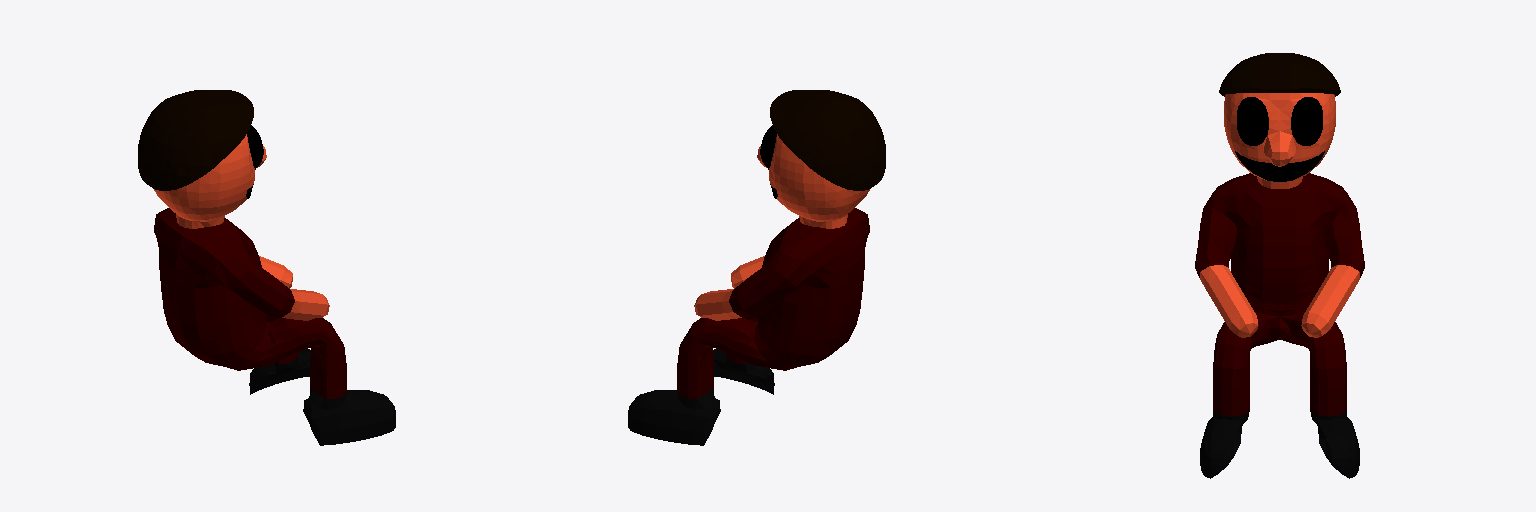
The model's file is peep.obj.
The picture shows the model from 3 angles: view 1: azimuth 30°, elevation 25°; view 2: azimuth 150°, elevation 25°; view 3: azimuth 270°, elevation 25°; orthographic projection.
Bounding box in the file's own units: 0.8074 × 1.23 × 0.5532.